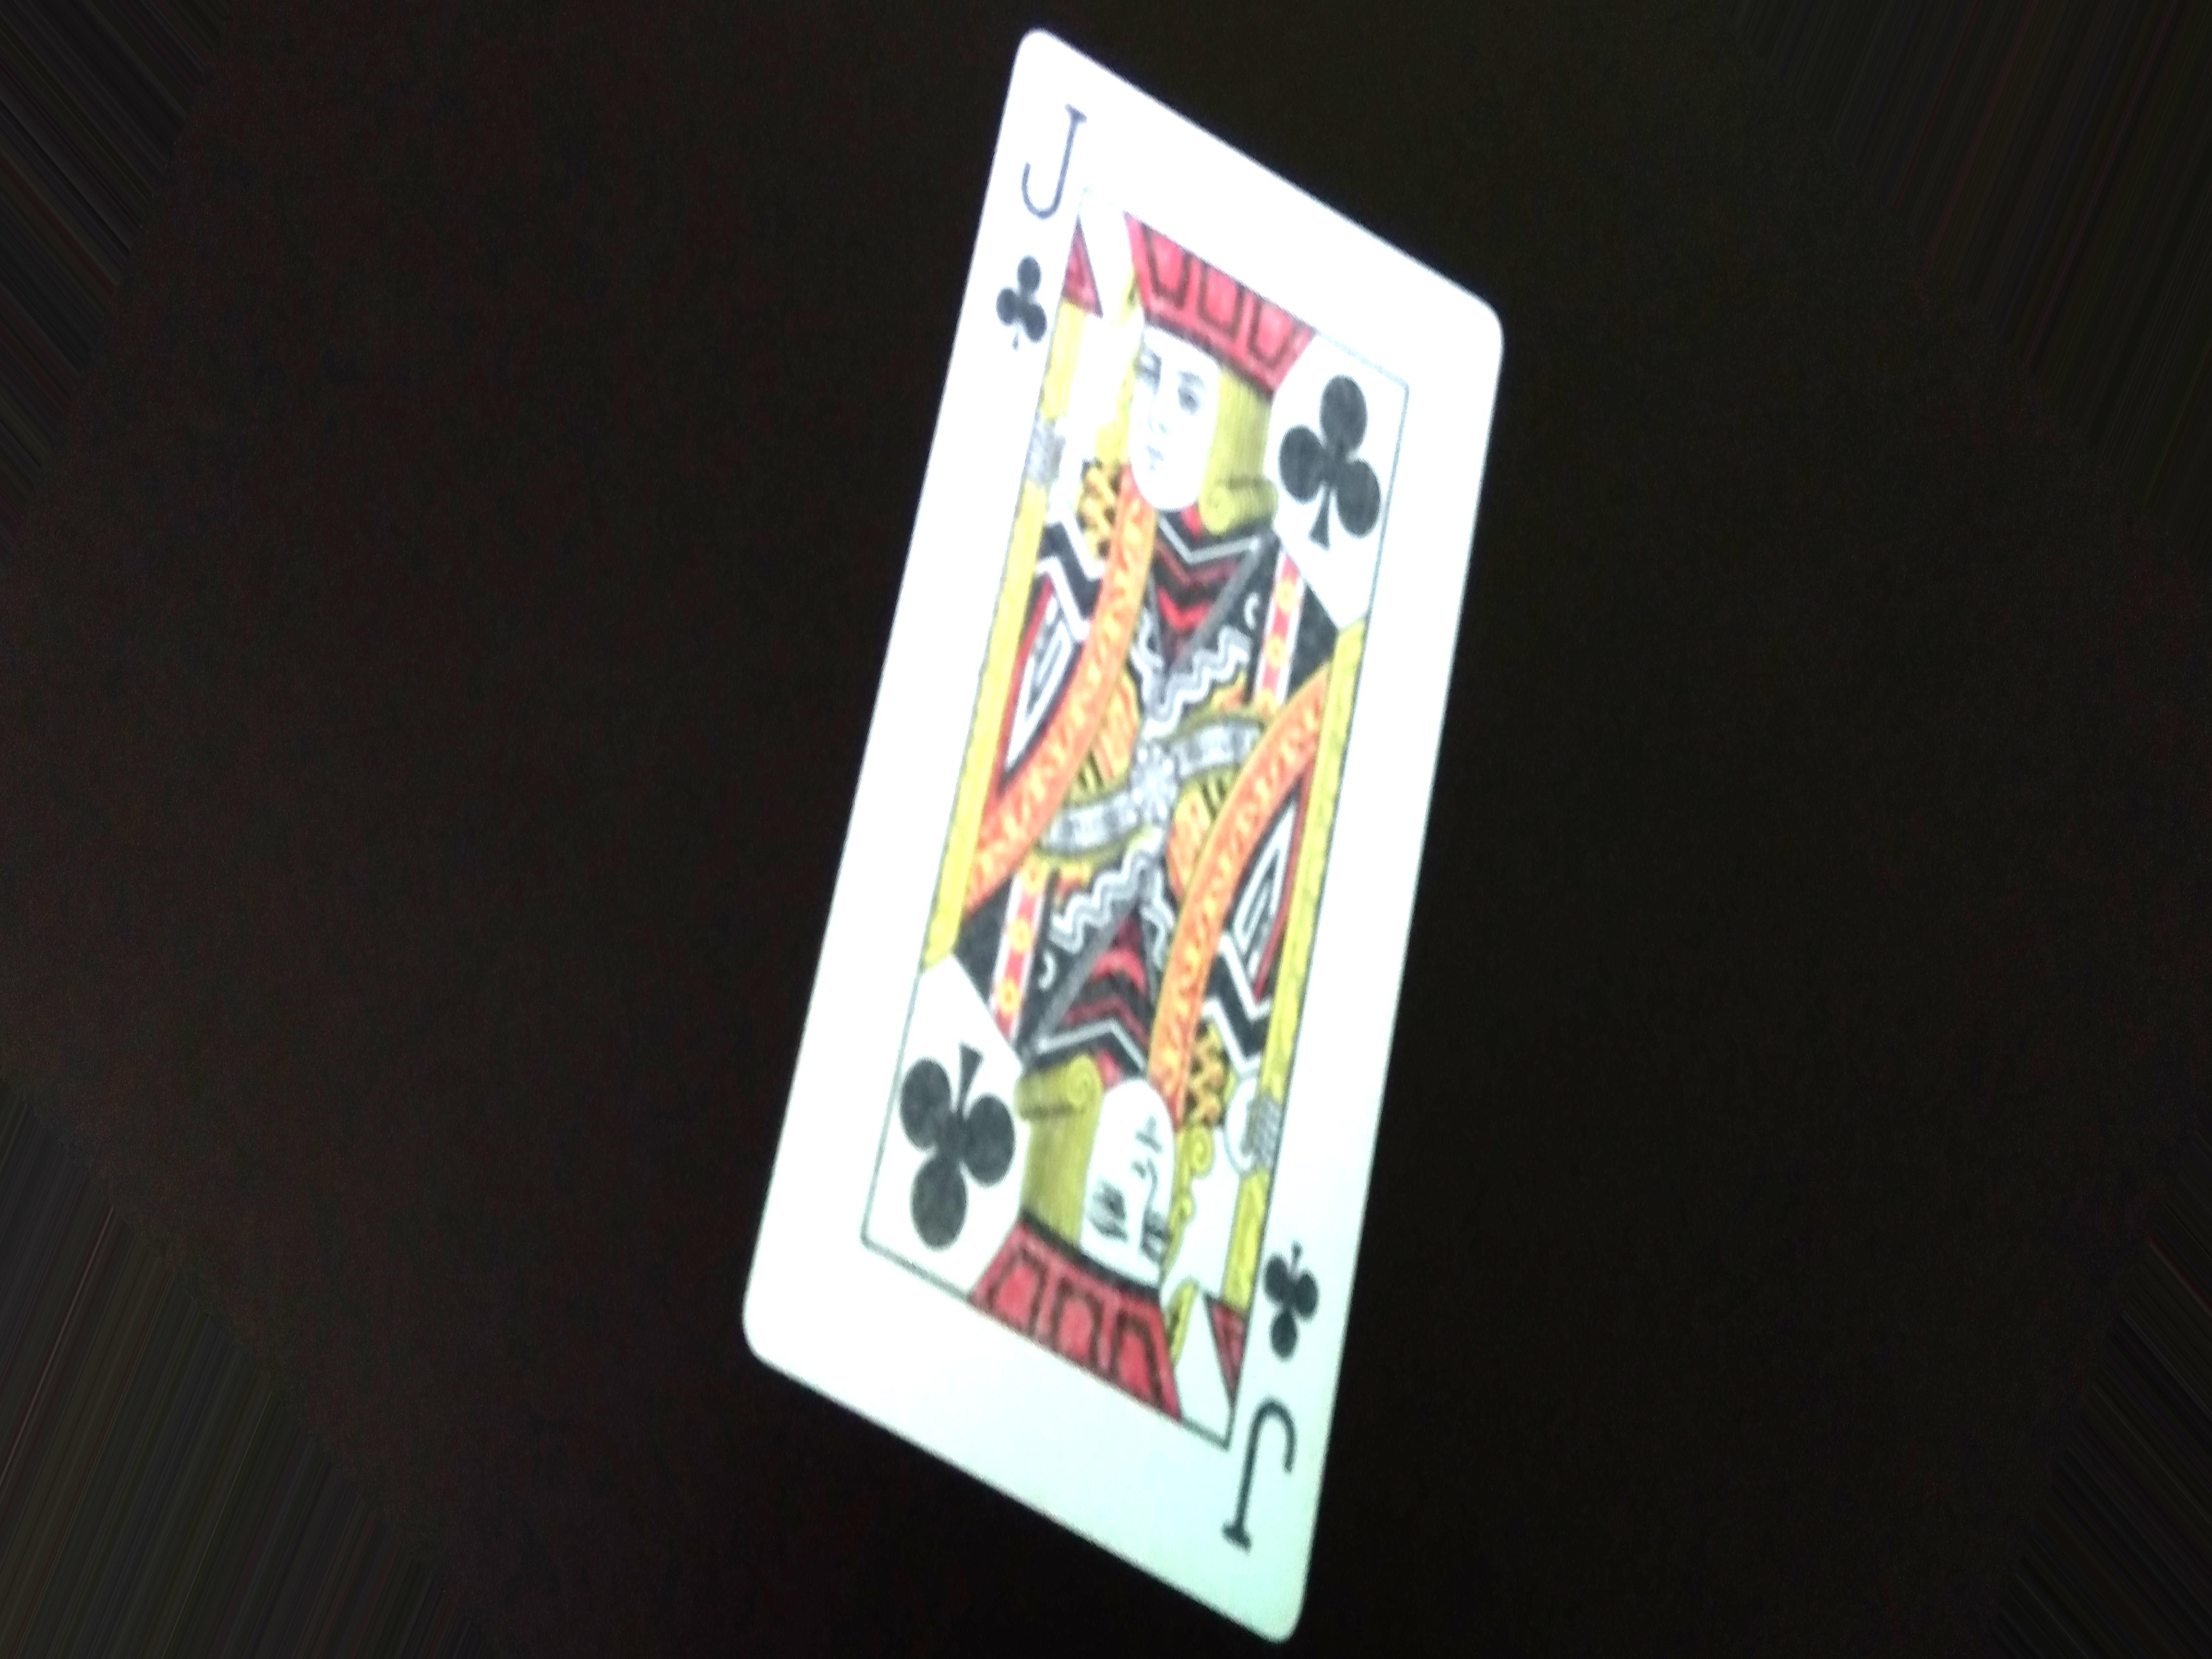JC: (991, 84, 1092, 389)
